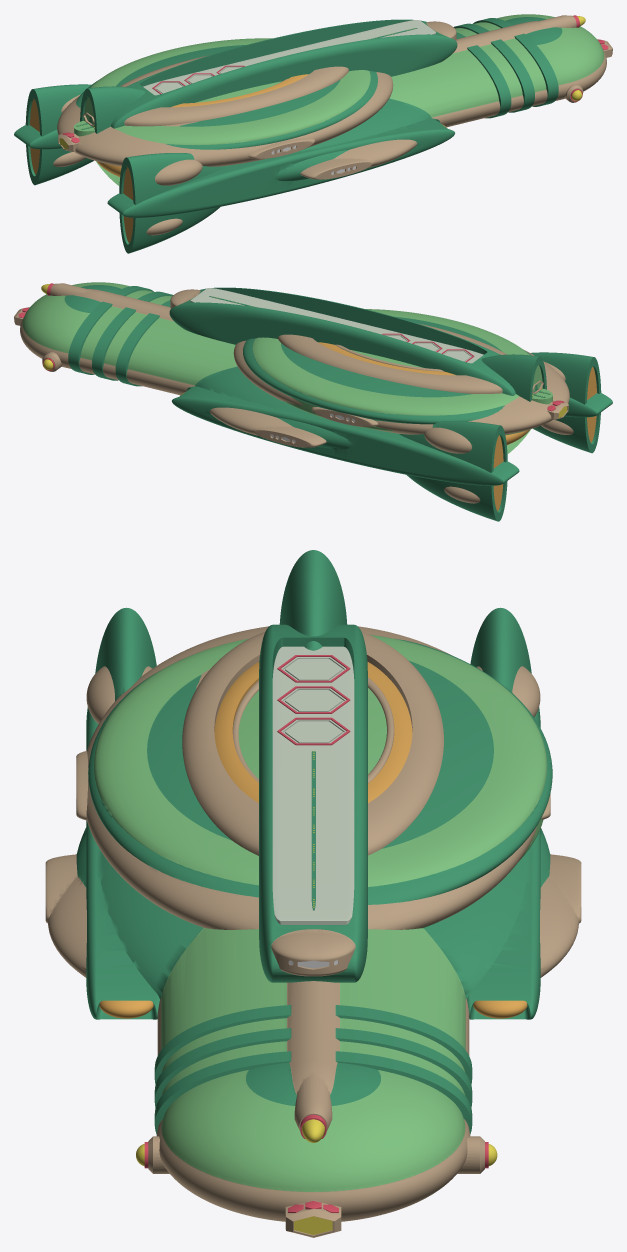
File: kre-bladestar.glb
3 renders of one model, top to bottom at view 1: azimuth 30°, elevation 25°; view 2: azimuth 150°, elevation 25°; view 3: azimuth 270°, elevation 25°, orthographic. The views are drawn at different scales.
Parts seen in each view (by area): view 1: Bladestar current hull - authored COLOR_0 regions; view 2: Bladestar current hull - authored COLOR_0 regions; view 3: Bladestar current hull - authored COLOR_0 regions.
Boxes of the visible parts, left/top/right/bottom form: Bladestar current hull - authored COLOR_0 regions: left=14, top=14, right=612, bottom=253; Bladestar current hull - authored COLOR_0 regions: left=14, top=282, right=612, bottom=521; Bladestar current hull - authored COLOR_0 regions: left=45, top=550, right=581, bottom=1237.
Bounding box in the file's own units: 7.74 × 1.74 × 3.29.
